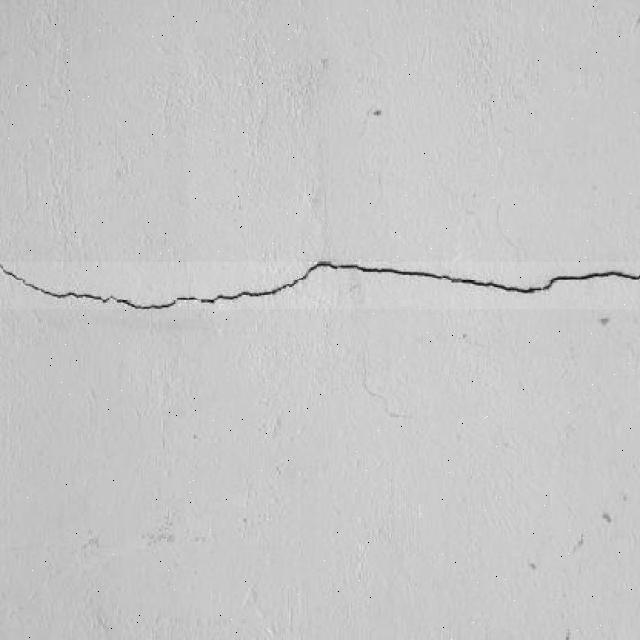crack: (3, 415, 632, 638), (7, 308, 640, 472), (0, 255, 639, 311), (0, 223, 361, 267), (0, 256, 574, 273), (8, 257, 171, 305), (167, 273, 312, 306)
